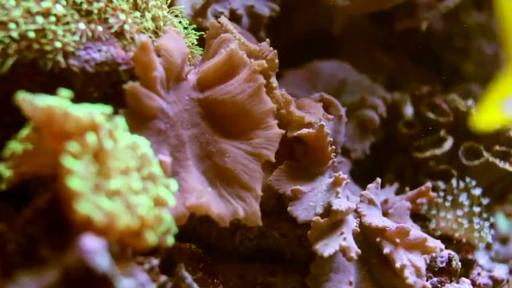Fish: (468, 0, 511, 133)
